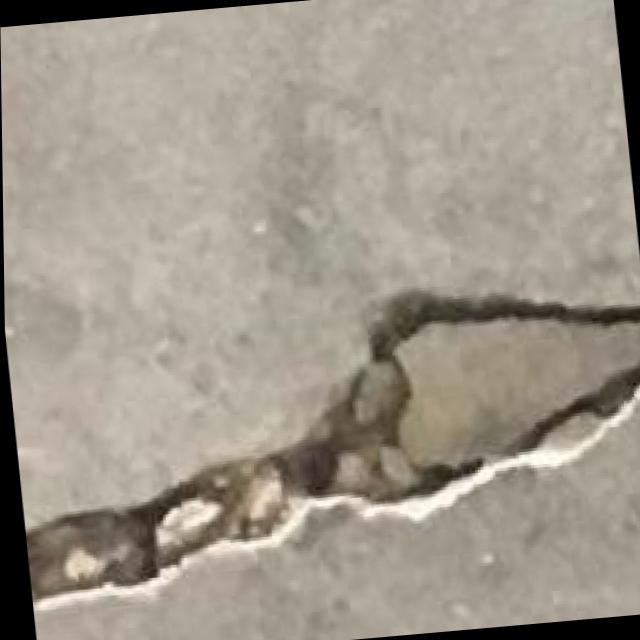Crack: (3, 282, 640, 636)
